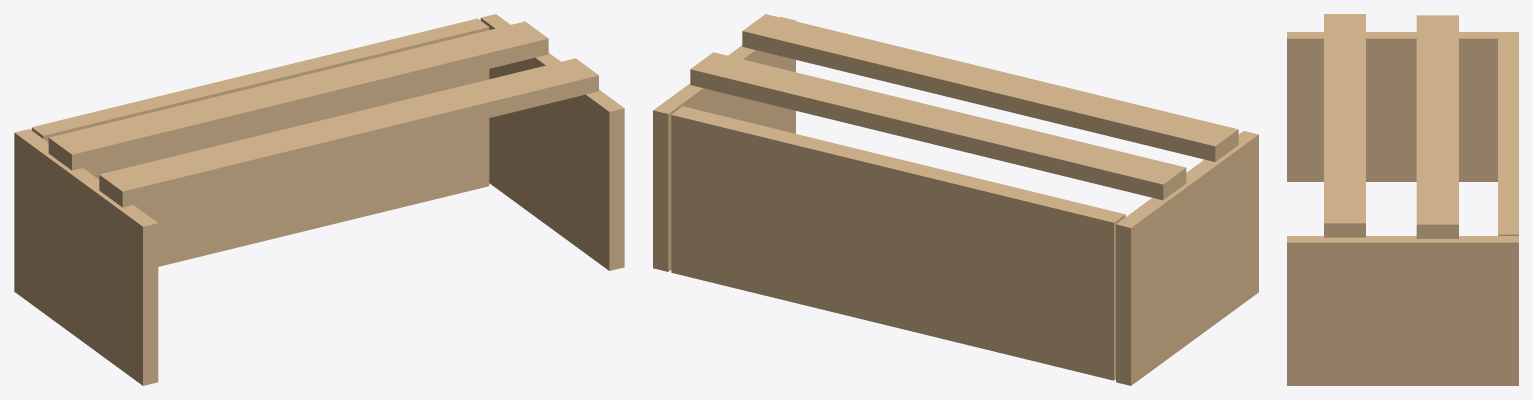
The model's file is tinker.obj.
The picture shows the model from 3 angles, left to right: view 1: azimuth 30°, elevation 25°; view 2: azimuth 150°, elevation 25°; view 3: azimuth 270°, elevation 25°; orthographic projection. The views are drawn at different scales.
Parts seen in each view (by area): view 1: obj_0; view 2: obj_0; view 3: obj_0.
Boxes of the visible parts, left/top/right/bottom form: obj_0: left=14, top=14, right=624, bottom=385; obj_0: left=653, top=14, right=1258, bottom=385; obj_0: left=1287, top=14, right=1518, bottom=385.
Bounding box in the file's own units: 475 × 169 × 220.
